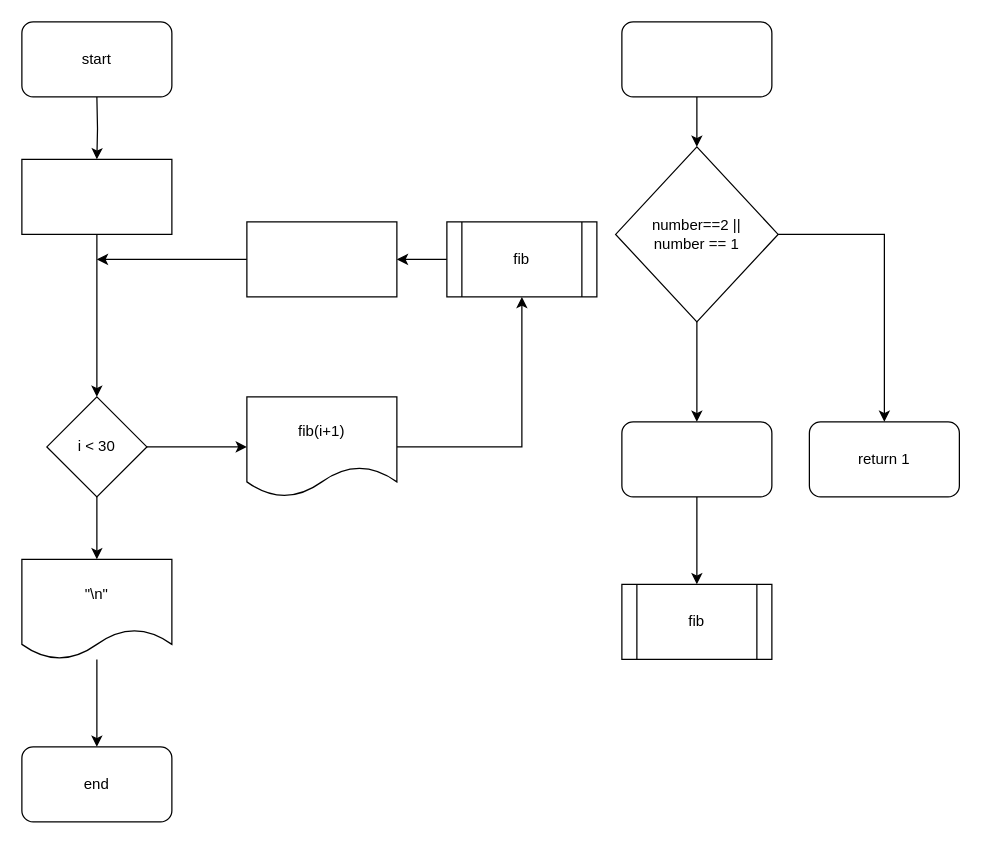
Image size: 981x844. Some labels were removed from this diagram. Here are the shapes that lost their labels. From the top down, the box of each, then its label:
(621, 21, 772, 97): fib(number)
(21, 158, 172, 234): i = 0
(246, 221, 397, 297): i++
(621, 421, 772, 497): return fib(number-1) + fib(number-2)
